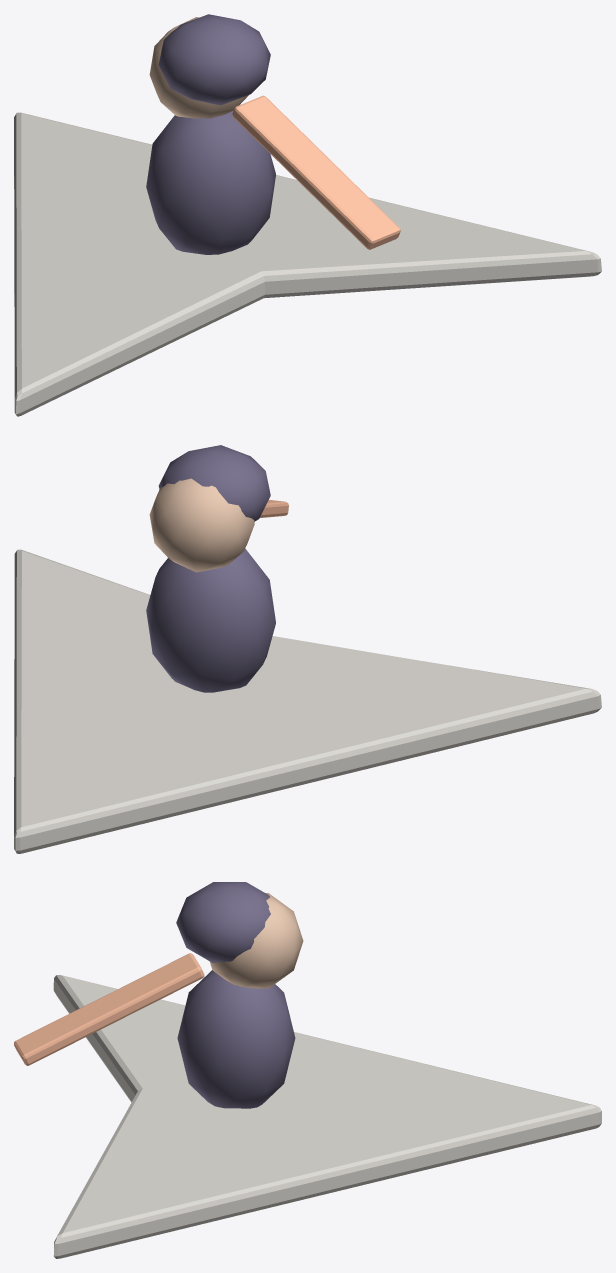
File: glider.glb
3 views of the same model, one above another, from view 1: azimuth 30°, elevation 25°; view 2: azimuth 150°, elevation 25°; view 3: azimuth 270°, elevation 25° (orthographic). The views are drawn at different scales.
Visible parts, largest first — view 1: Wing, Body, Hair, Scarf, Head; view 2: Wing, Body, Head, Hair; view 3: Wing, Body, Scarf, Hair, Head.
Boxes of the visible parts, x1,y1,x2,y2 form: Wing: (14, 112, 601, 416); Body: (146, 111, 275, 254); Hair: (158, 14, 270, 105); Scarf: (232, 95, 400, 249); Head: (149, 17, 248, 118); Wing: (14, 549, 601, 853); Body: (146, 548, 275, 692); Head: (149, 478, 254, 572); Hair: (158, 445, 270, 521); Wing: (53, 975, 601, 1258); Body: (177, 970, 295, 1108); Scarf: (14, 953, 204, 1065); Hair: (176, 882, 270, 963); Head: (209, 893, 303, 988).
Bounding box in the file's own units: 1.89 × 0.8 × 1.75.
